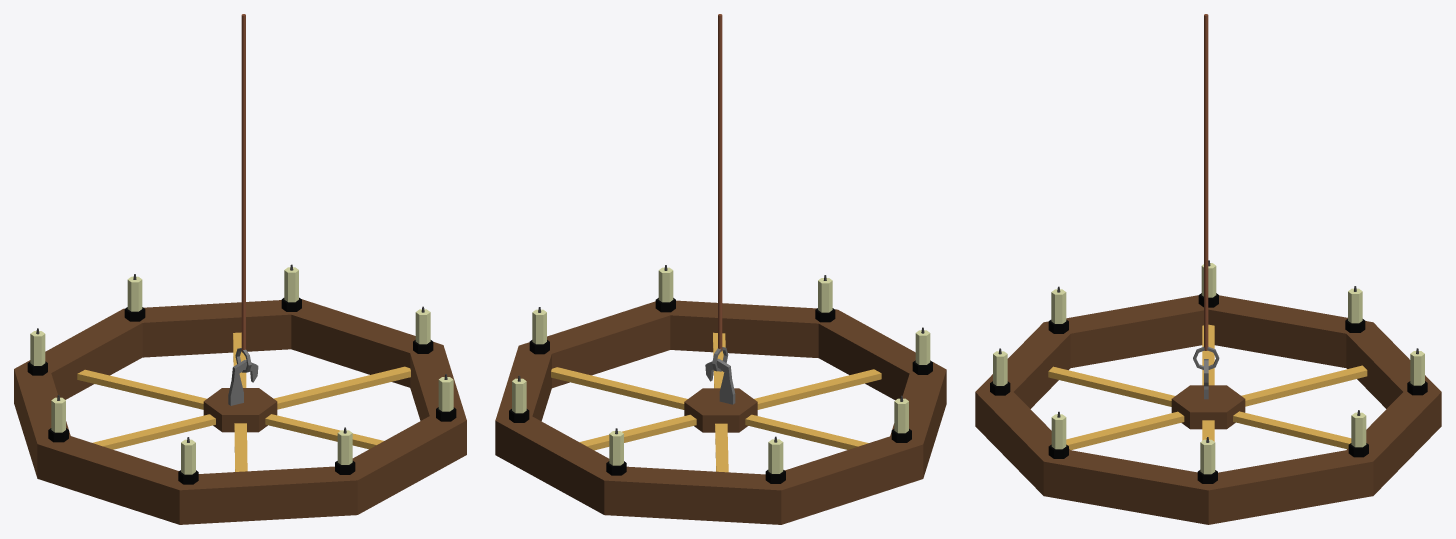
The model's file is CHANDILIER_V1.fbx.
The picture shows the model from 3 angles, left to right: view 1: azimuth 30°, elevation 25°; view 2: azimuth 150°, elevation 25°; view 3: azimuth 270°, elevation 25°; orthographic projection.
Parts seen in each view (by area): view 1: Plane; view 2: Plane; view 3: Plane.
Boxes of the visible parts, x1,y1,x2,y2 form: Plane: (14, 14, 466, 524); Plane: (495, 14, 946, 524); Plane: (975, 14, 1441, 524).
Size of the model in its own units: 254 by 248 by 254.
